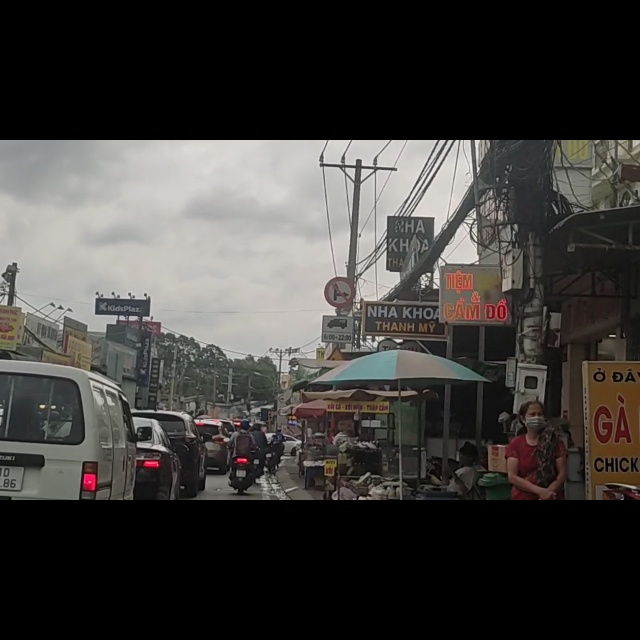bien_cam: (324, 242, 355, 295), (322, 312, 355, 360)
